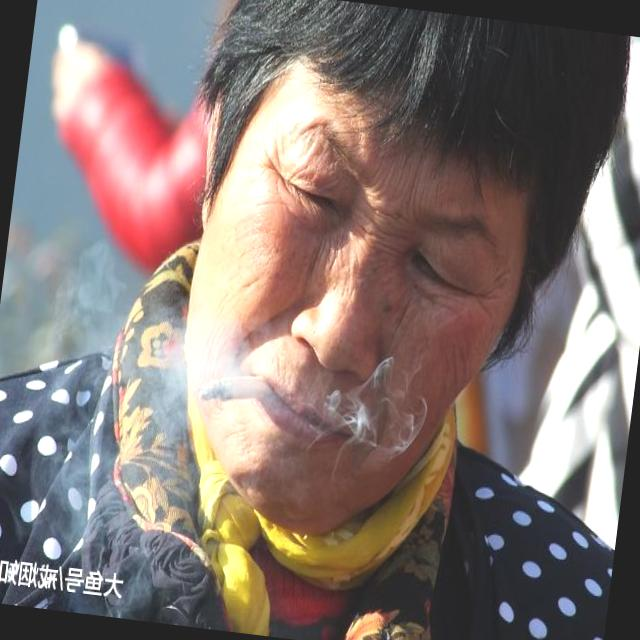smoke: (192, 364, 270, 414)
